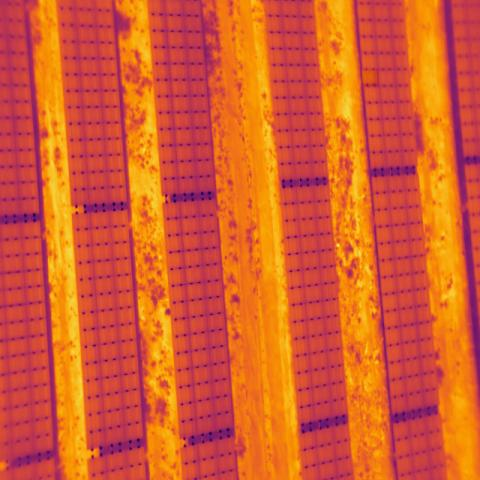fault: (363, 69, 379, 87)
